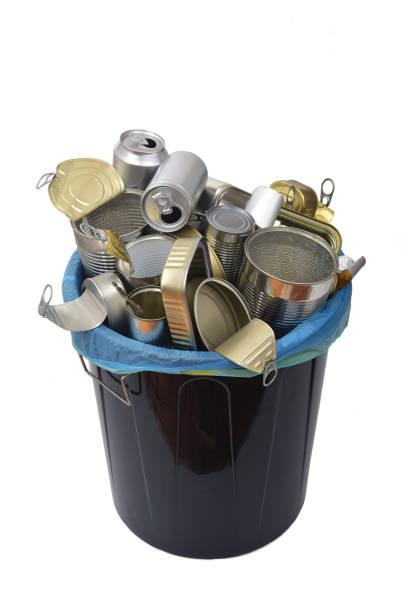trash: (35, 122, 369, 381)
trash_can_overflow: (17, 111, 377, 583)
